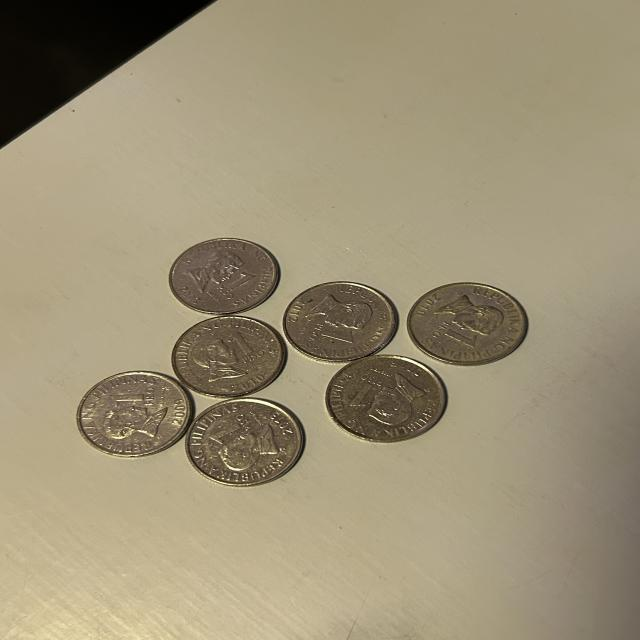1_Old_Front: (429, 316, 479, 356), (221, 330, 268, 366), (353, 372, 391, 415), (206, 416, 264, 442), (215, 270, 259, 302), (312, 322, 359, 348), (109, 388, 161, 410)
